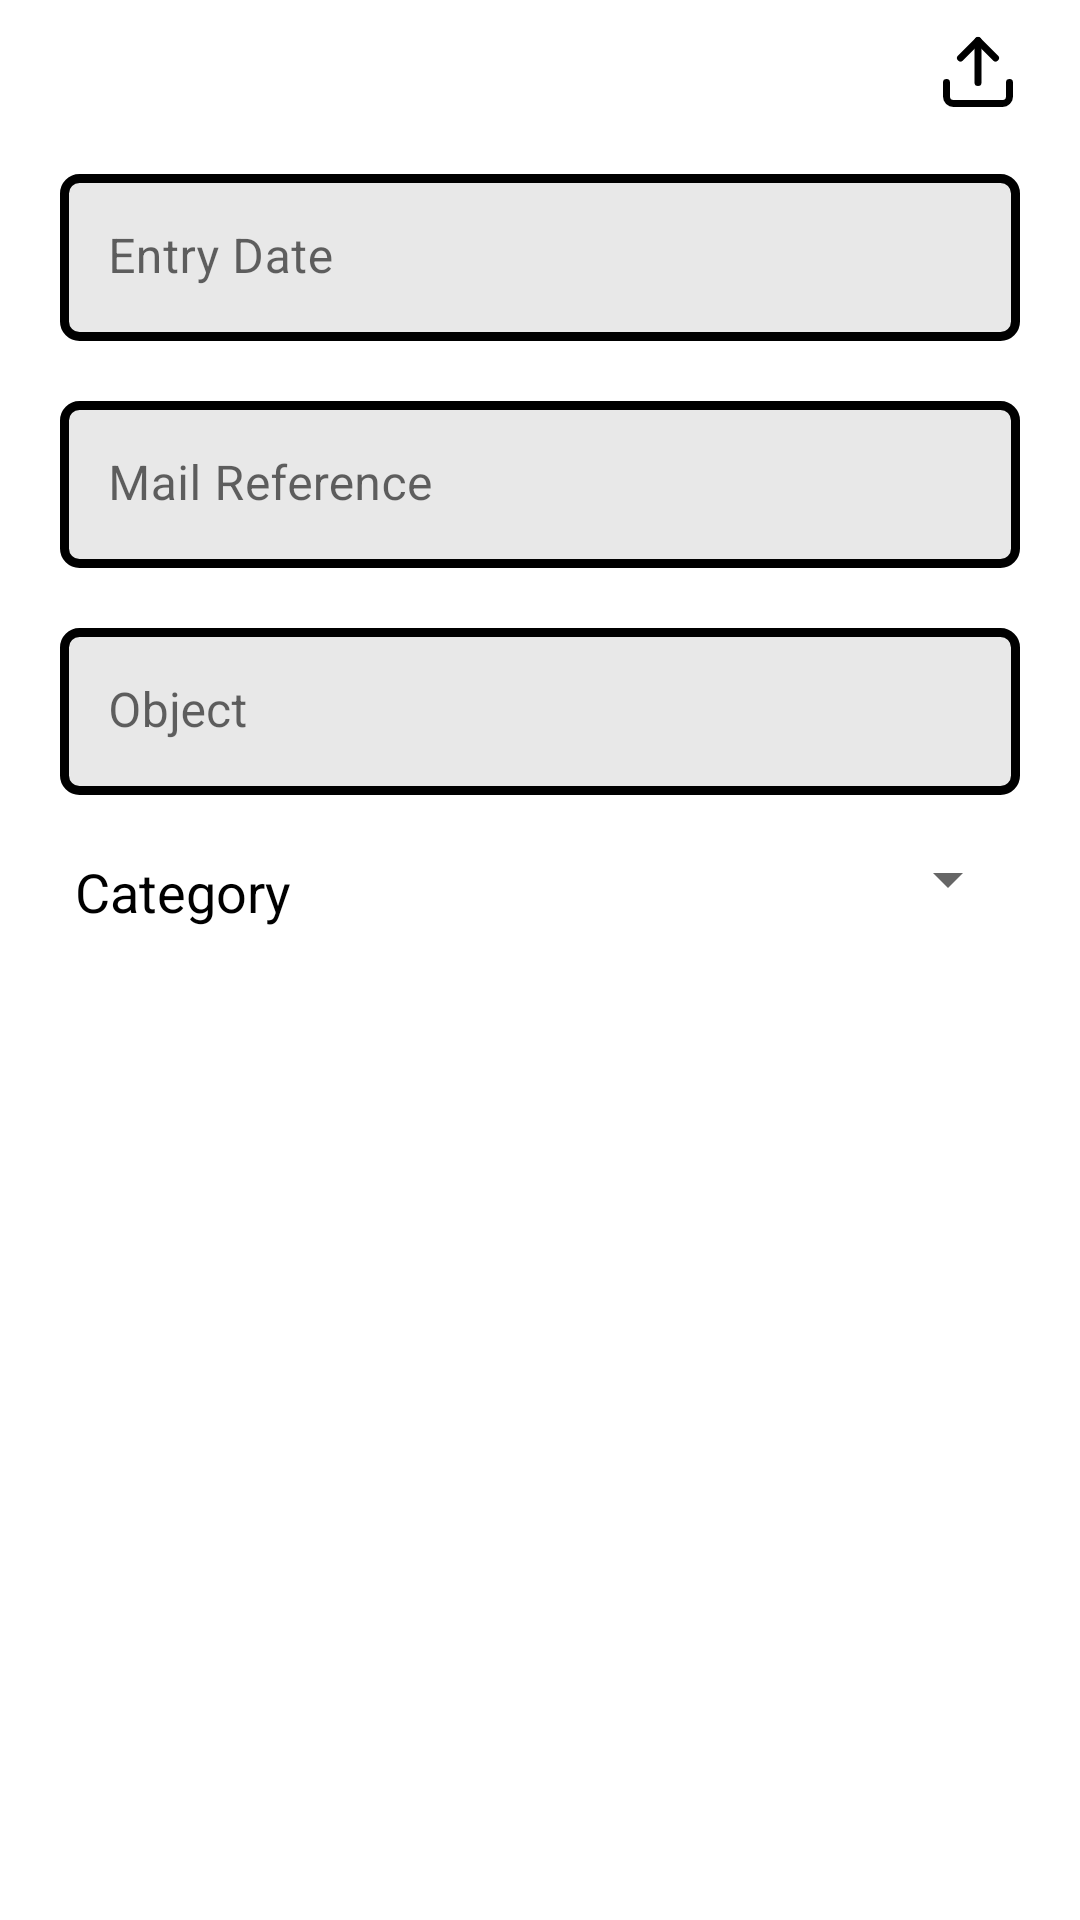

Locate icon controls on the screen. Image size 1080*1920, boxes as box=[x1, y1, x2, y2].
upload: box=[943, 37, 1013, 107]
